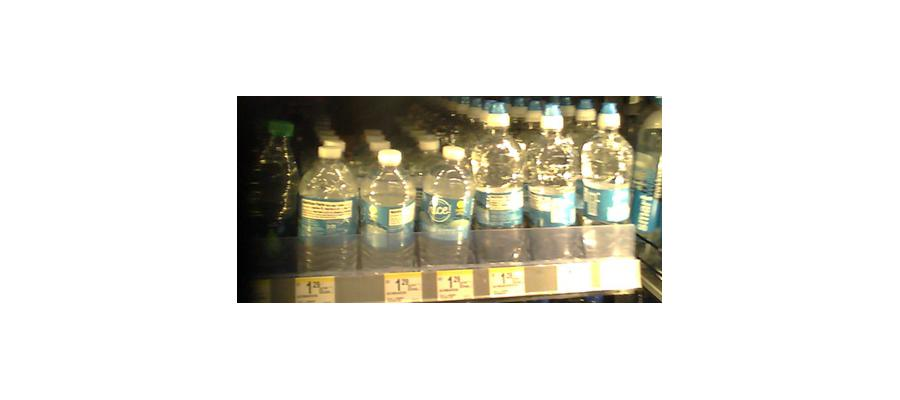bottle: (472, 99, 525, 262), (527, 98, 579, 260), (581, 100, 631, 267), (243, 118, 295, 277), (298, 137, 358, 274), (416, 142, 472, 267), (359, 147, 415, 268)
